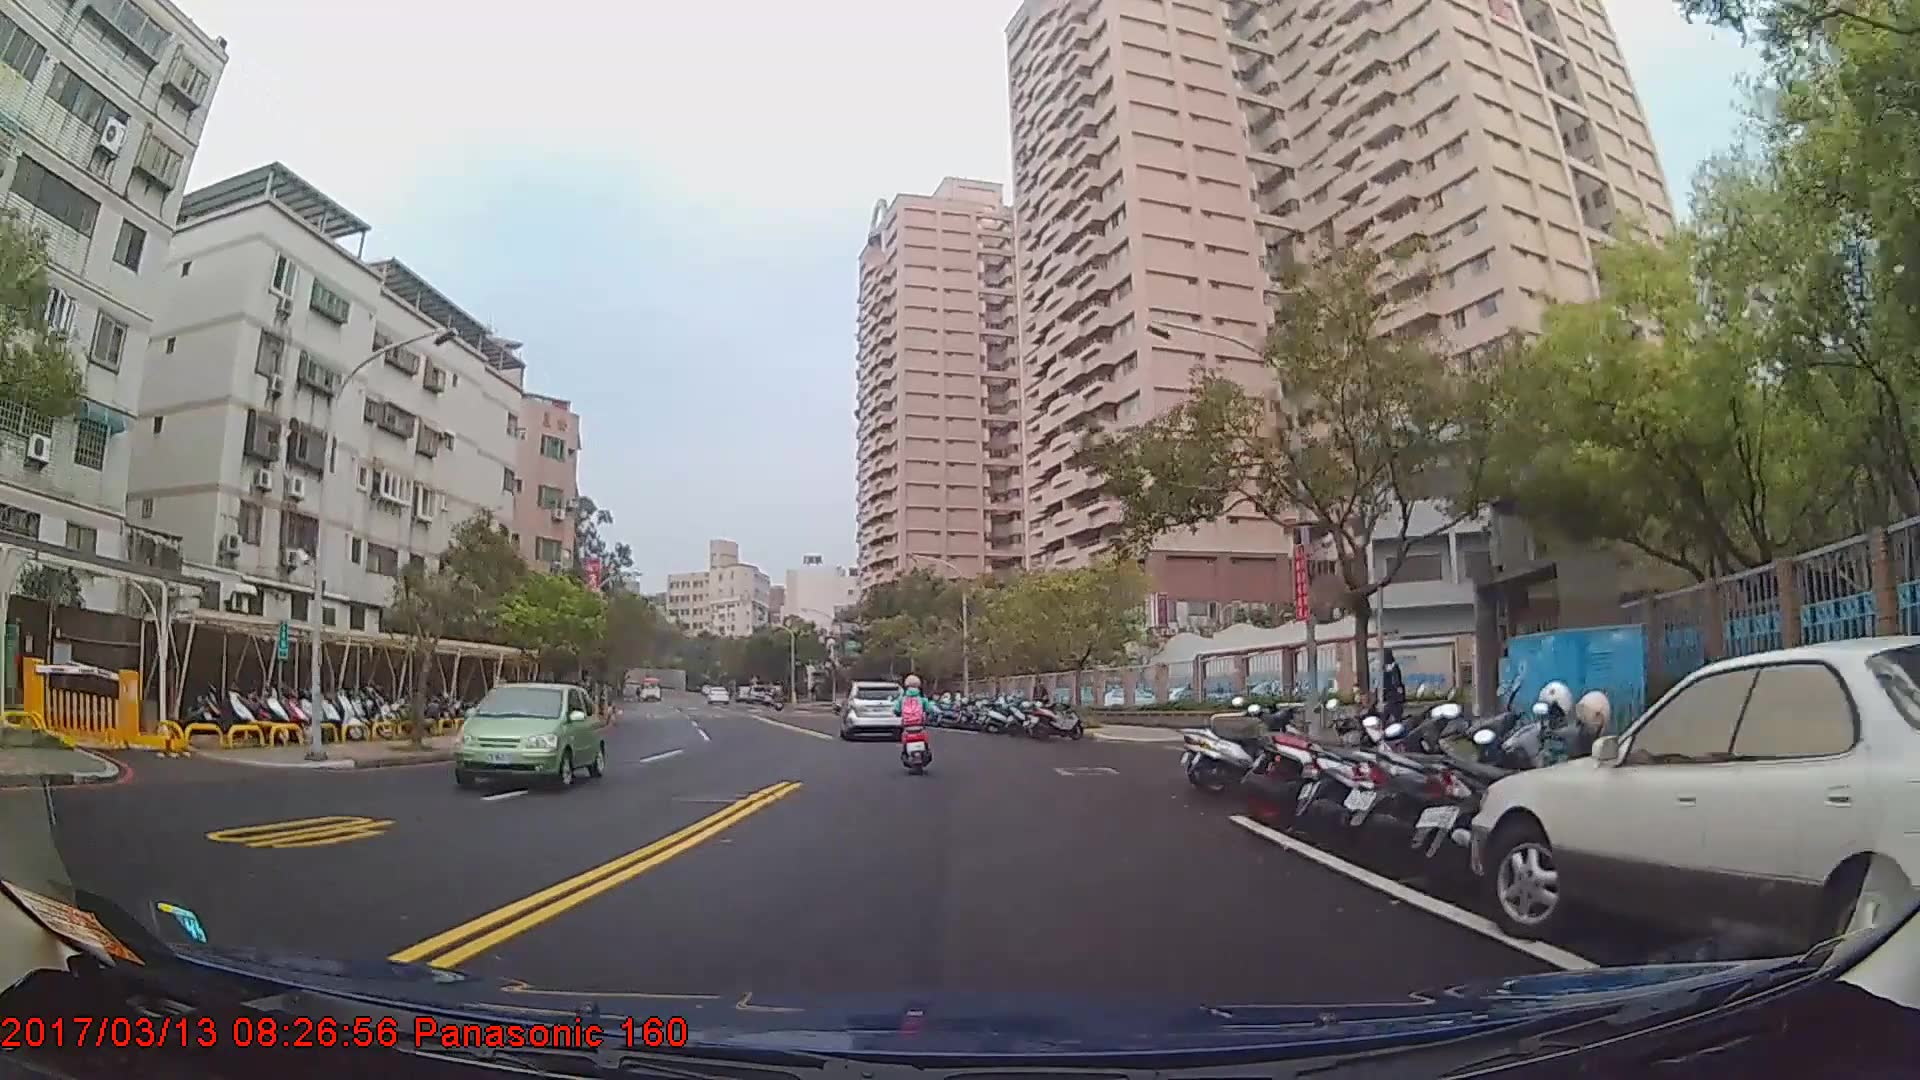pedestrian: (1378, 646, 1409, 756), (1032, 677, 1052, 727)
rider: (896, 674, 938, 780)
vehicle: (1471, 632, 1920, 982), (452, 681, 602, 789), (842, 676, 908, 740), (637, 677, 663, 705)
